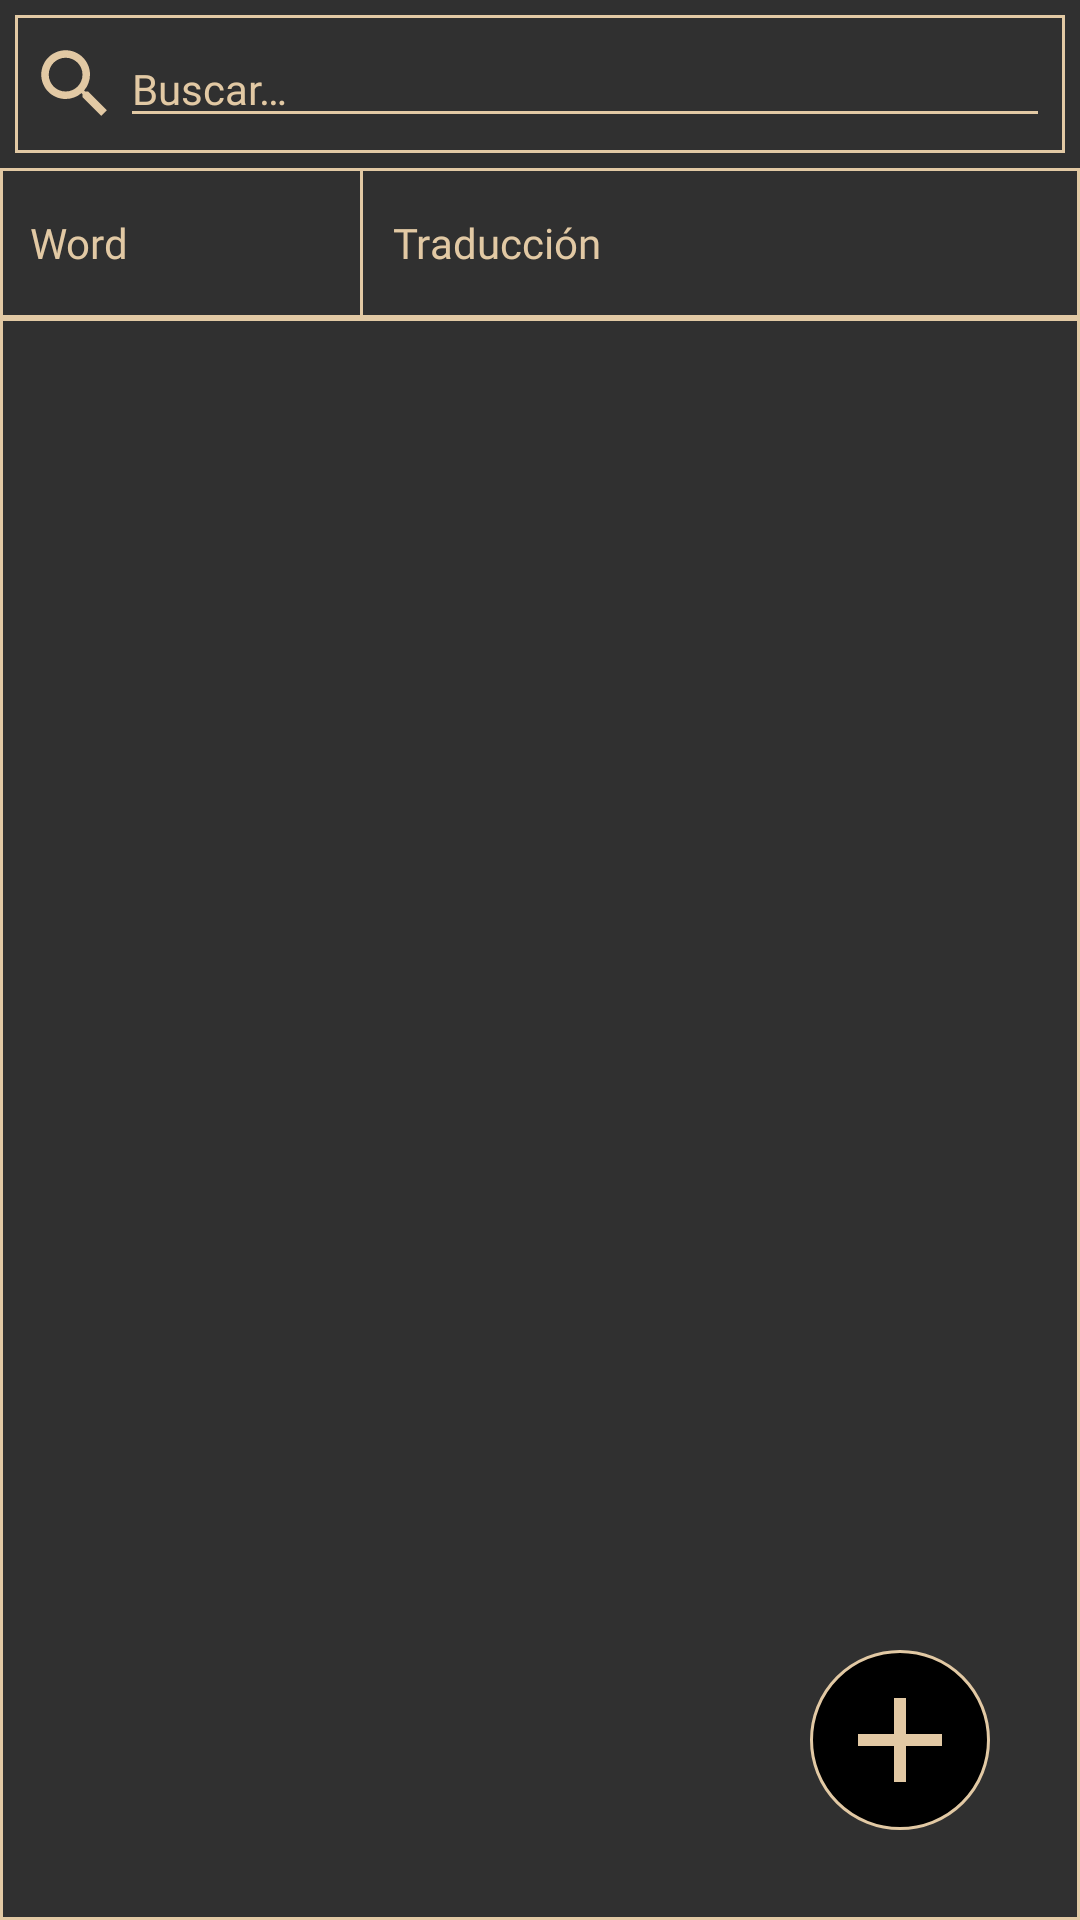

Where icons sit on this 1080px x 1920px app screen, as (x1, y1, x2, y2):
add: (810, 1650, 990, 1830)
